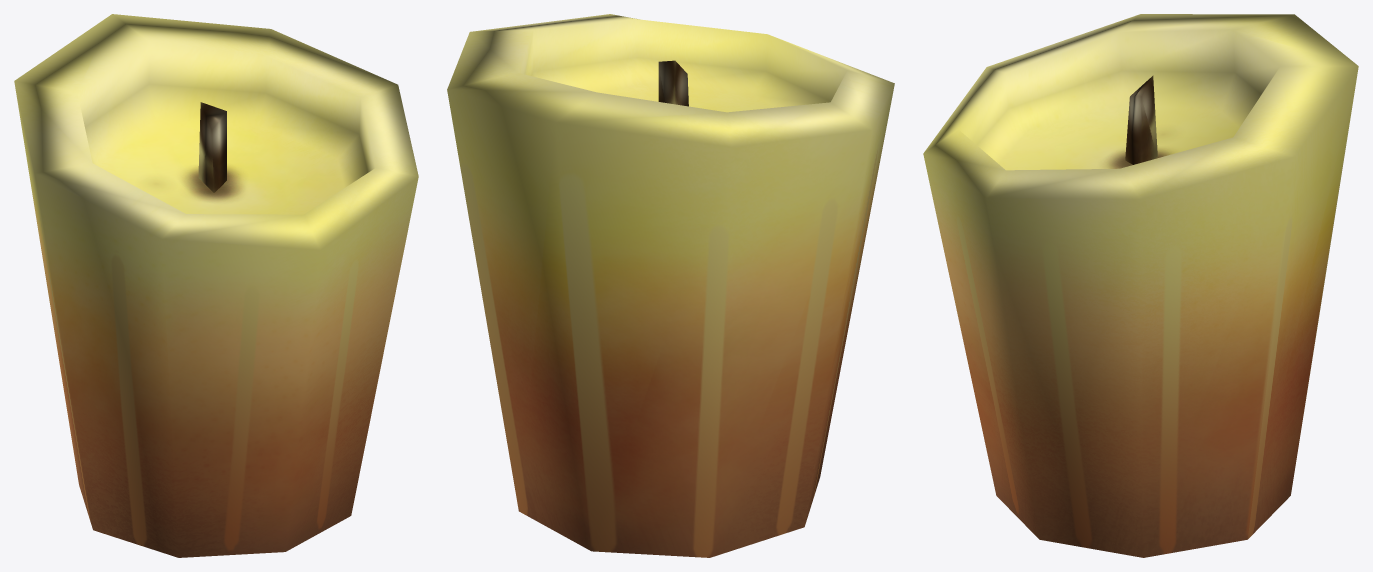
Rendered from Candle.fbx.
3 renders of one model, left to right at view 1: azimuth 30°, elevation 25°; view 2: azimuth 150°, elevation 25°; view 3: azimuth 270°, elevation 25°, orthographic. The views are drawn at different scales.
Visible parts, largest first — view 1: Candle; view 2: Candle; view 3: Candle.
Part boxes in pixels (x1,y1,x2,y2): Candle: (14, 14, 418, 557); Candle: (447, 14, 894, 557); Candle: (923, 14, 1358, 557).
Bounding box in the file's own units: 9.22 × 9.97 × 9.16.
